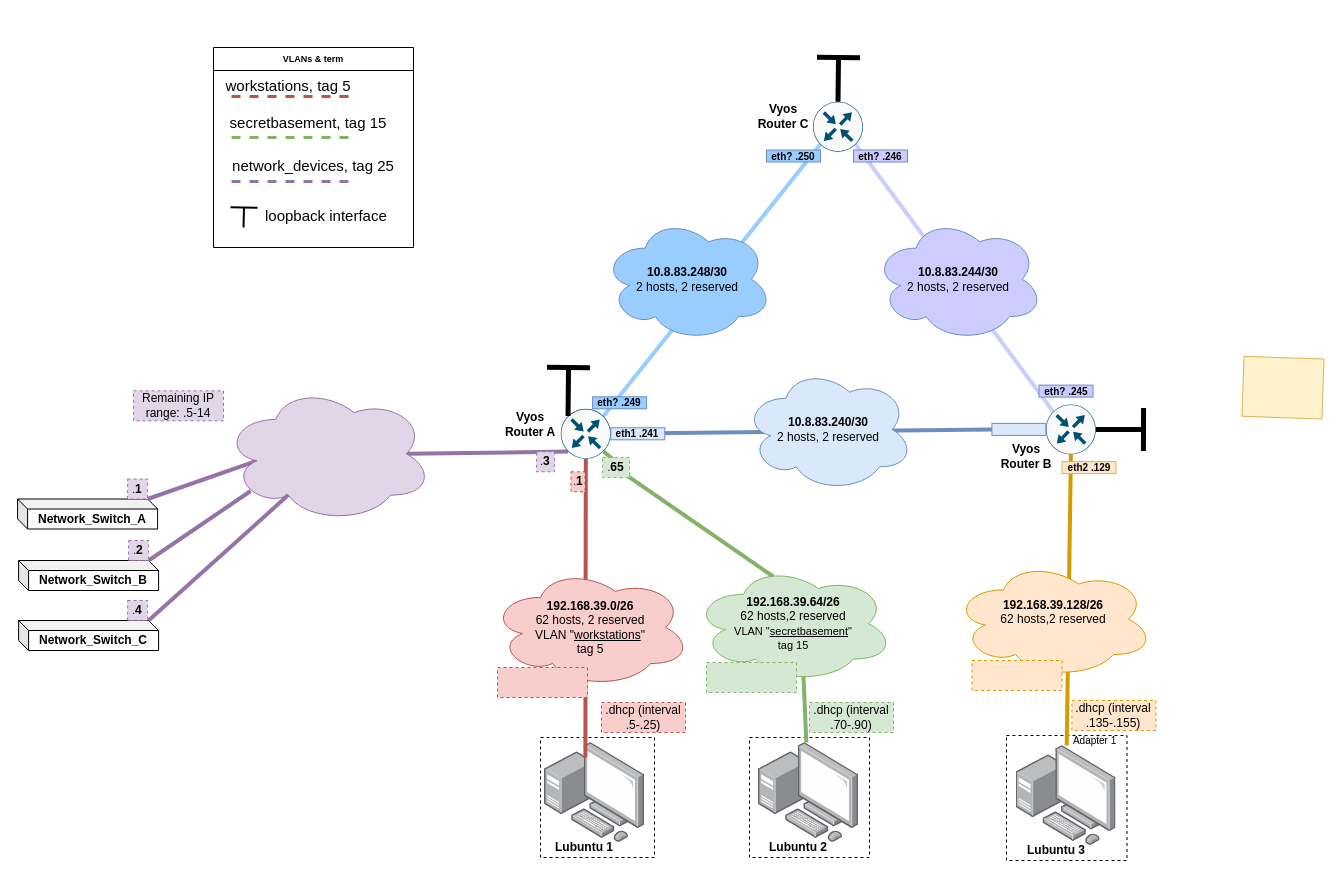
This 1342x883 diagram has some shape labels left out. Here are the shapes that lost their labels. From the top down, the centre of each, then its label:
[1282,387]: Router A eth0 VIF: 5 , 15 , 25
[1018,428]: eth1 .242
[327,453]: 10.8.83.0/28 16 hosts, 2 reserved VLAN "network_devices" tag 25
[542,682]: Remaining IP range: .3 - 62
[751,677]: Remaining IP range: .67 - 126
[1016,675]: Remaining IP range: .131-190
